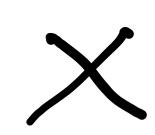mult: (27, 27, 147, 126)
